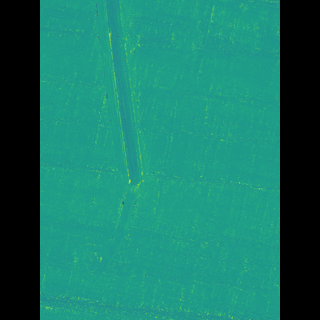Loch: (104, 0, 155, 290)
